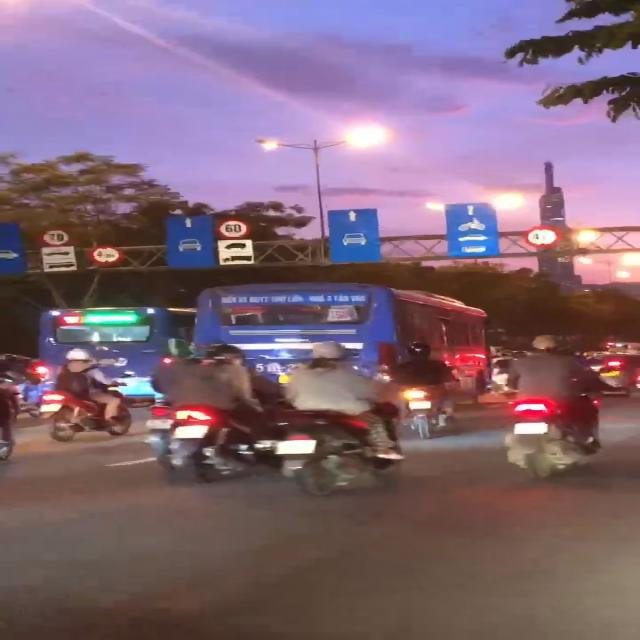Bien bao toc do toi da cho phep: (214, 218, 256, 241), (41, 229, 73, 247)
